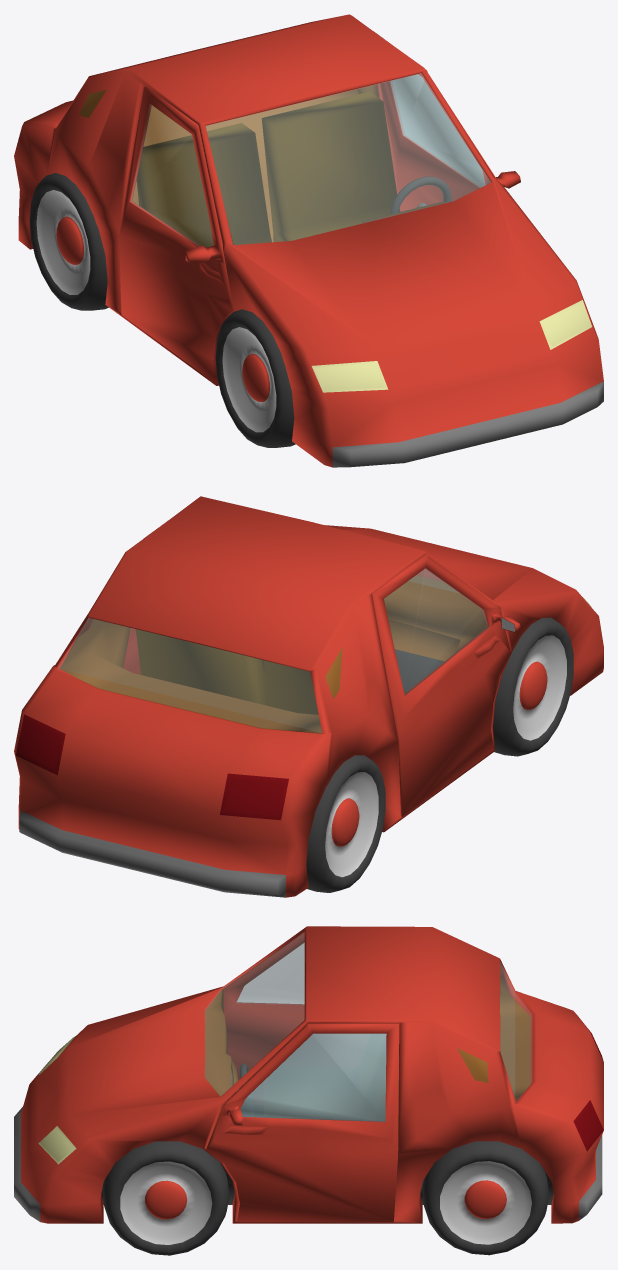
The model's file is car_v3_rotationtest.fbx.
3 views of the same model, one above another, from view 1: azimuth 30°, elevation 25°; view 2: azimuth 150°, elevation 25°; view 3: azimuth 270°, elevation 25° (orthographic). The views are drawn at different scales.
Parts seen in each view (by area): view 1: Car, Door Right, Seat Left, Seat Right, Door Left, Wheel Front Right, Wheel Back Right, Steeringwheel; view 2: Car, Door Right, Wheel Front Right, Wheel Back Right, Seat Left, Seat Right, Door Left; view 3: Car, Door Left, Wheel Front Left, Wheel Back Left, Door Right.
Part boxes in pixels (left/top/right/bottom): Car: left=14, top=14, right=603, bottom=467; Door Right: left=119, top=87, right=233, bottom=381; Seat Left: left=261, top=92, right=400, bottom=242; Seat Right: left=136, top=123, right=271, bottom=247; Door Left: left=376, top=33, right=520, bottom=211; Wheel Front Right: left=215, top=309, right=295, bottom=447; Wheel Back Right: left=29, top=173, right=108, bottom=310; Steeringwheel: left=390, top=176, right=451, bottom=214; Car: left=14, top=496, right=603, bottom=897; Door Right: left=372, top=555, right=520, bottom=816; Wheel Front Right: left=493, top=617, right=573, bottom=756; Wheel Back Right: left=306, top=755, right=385, bottom=892; Seat Left: left=135, top=629, right=268, bottom=705; Seat Right: left=264, top=660, right=406, bottom=714; Door Left: left=123, top=524, right=162, bottom=674; Car: left=14, top=926, right=603, bottom=1223; Door Left: left=206, top=1023, right=399, bottom=1222; Wheel Front Left: left=103, top=1141, right=229, bottom=1255; Wheel Back Left: left=422, top=1141, right=549, bottom=1255; Door Right: left=223, top=933, right=306, bottom=1087.
Bounding box in the file's own units: 239 × 185 × 430.
